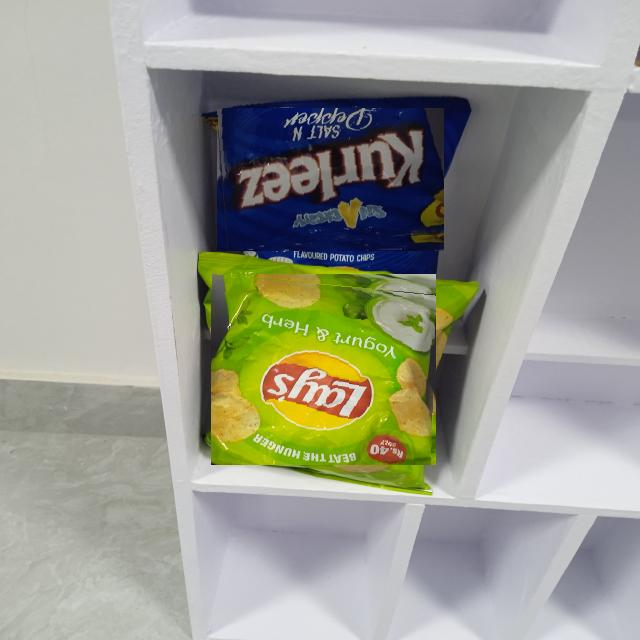Plastic: (211, 273, 436, 465), (216, 108, 444, 251)
